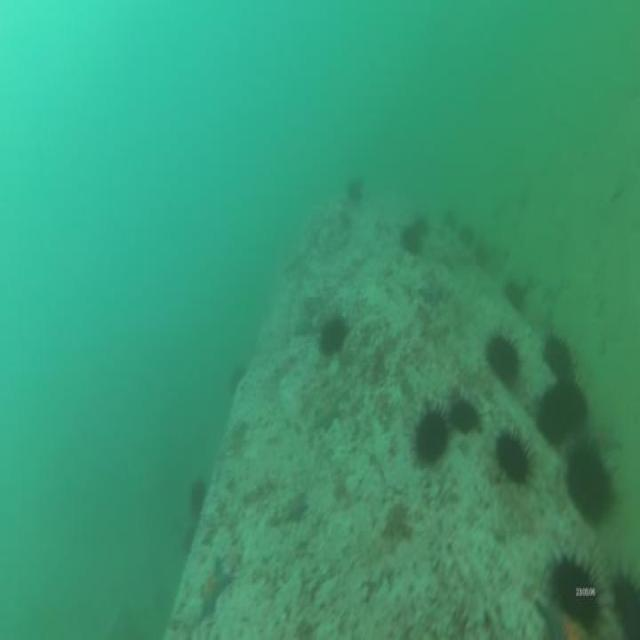echinus: (567, 442, 614, 526), (552, 556, 600, 623), (540, 381, 588, 444), (418, 408, 448, 466), (495, 431, 528, 482), (486, 333, 518, 381), (319, 316, 348, 357), (542, 335, 570, 375), (449, 400, 478, 431), (398, 224, 422, 254), (190, 478, 207, 510), (506, 280, 524, 310), (348, 174, 363, 202)
starfish: (196, 558, 232, 615), (286, 493, 308, 525)
